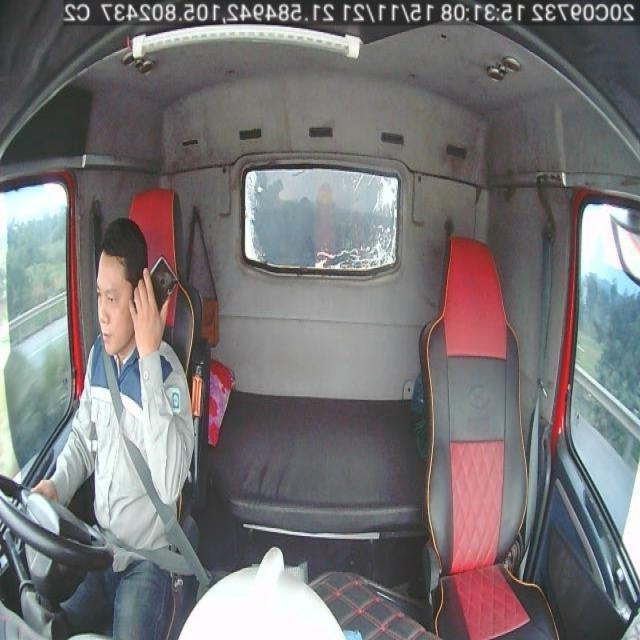phone: (134, 258, 178, 316)
